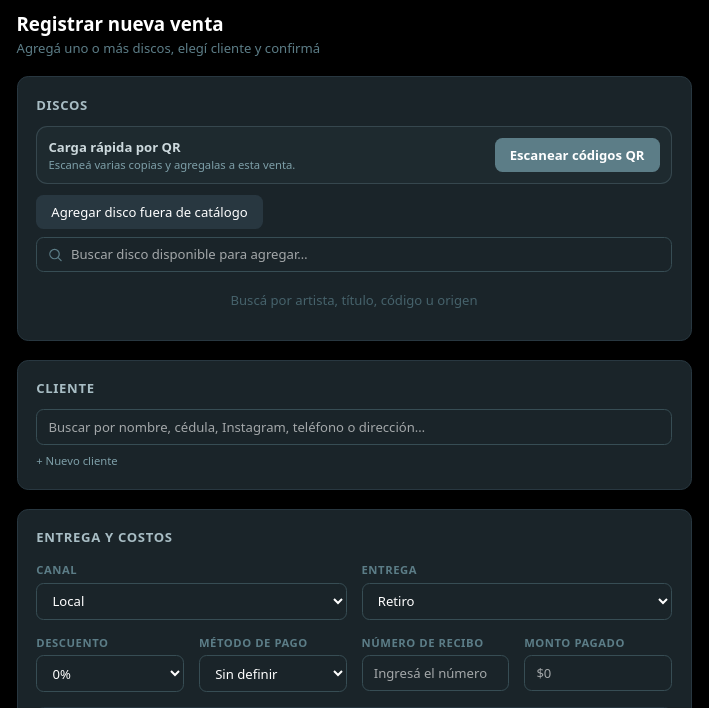
Test: NuevaVenta manual items › aborts the previous request and ignores a late stale response
Step 1. Type "et" into the field with placeholder "Buscar disco disponible para agregar…" → (354, 254), box [36,237,672,272]
Wait 300 ms
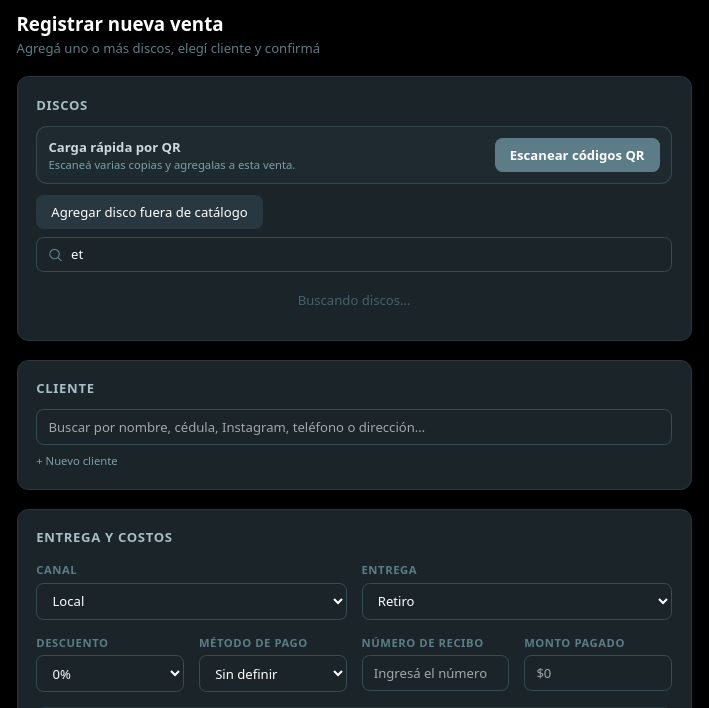
Step 2. Replace the text in the field with placeholder "Buscar disco disponible para agregar…" with "eterna" → (354, 254), box [36,237,672,272]
Wait 300 ms
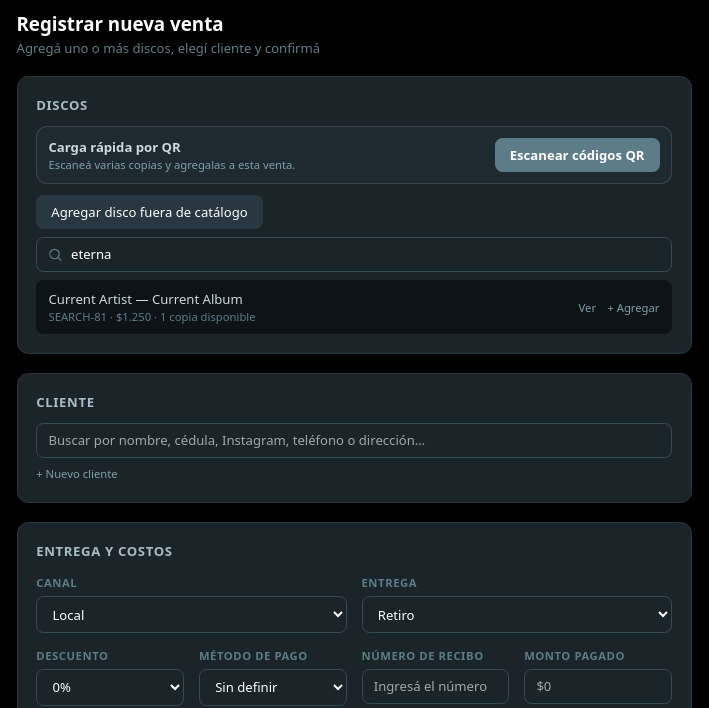
expect the text "Current Artist — Current Album" is shown: met, box [48,290,243,308]
